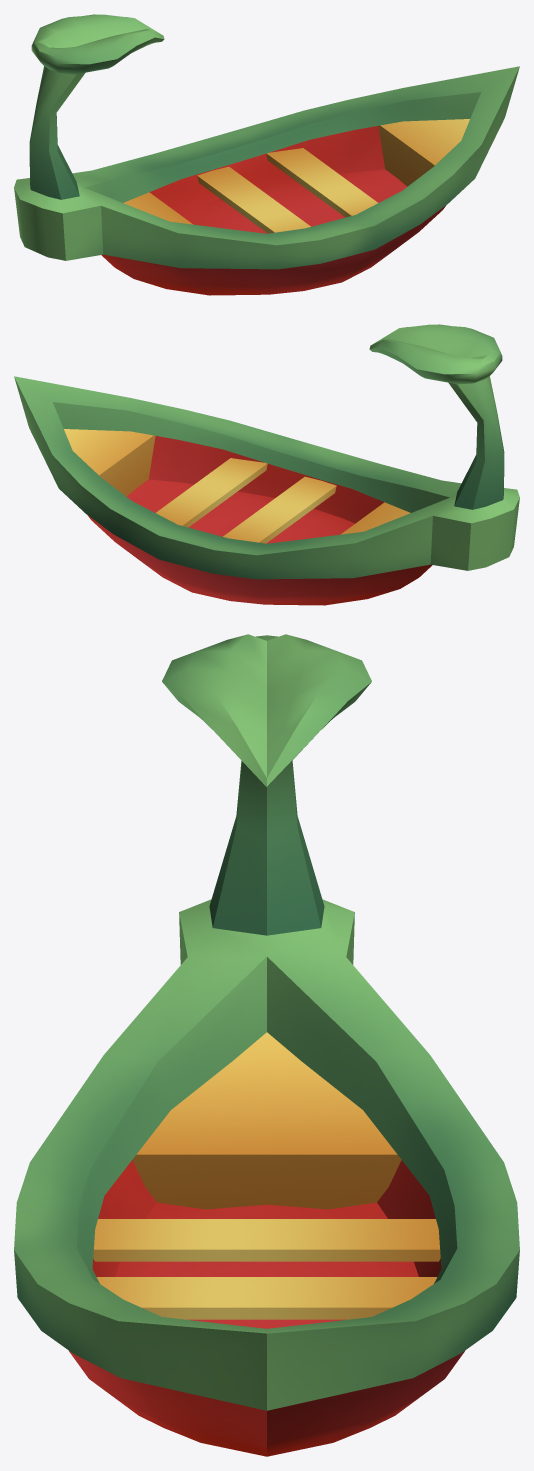
The model's file is Boat.fbx.
The picture shows the model from 3 angles, top to bottom: view 1: azimuth 30°, elevation 25°; view 2: azimuth 150°, elevation 25°; view 3: azimuth 270°, elevation 25°; orthographic projection. The views are drawn at different scales.
Parts seen in each view (by area): view 1: Boat; view 2: Boat; view 3: Boat.
Part boxes in pixels (<box>): Boat: <box>14,14,519,295</box>; Boat: <box>14,324,519,605</box>; Boat: <box>14,634,519,1456</box>.
Bounding box in the file's own units: 1261 × 664 × 580.
Materials: 1 (1 with a texture image).
